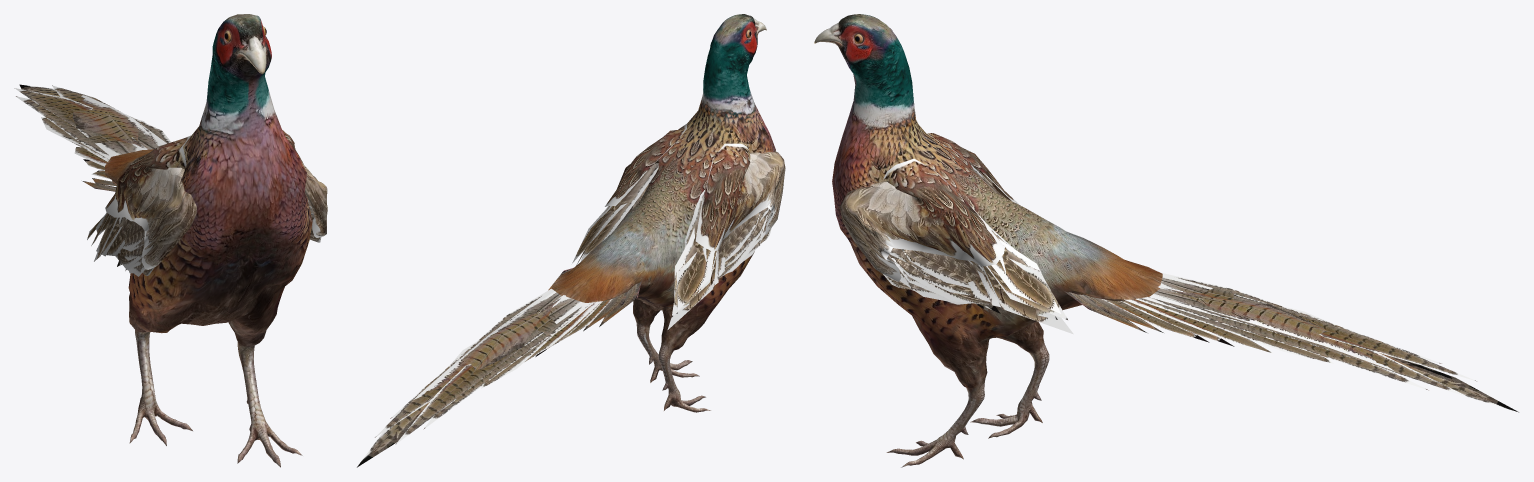
File: a_pheasant.glb
The picture shows the model from 3 angles, left to right: view 1: azimuth 30°, elevation 25°; view 2: azimuth 150°, elevation 25°; view 3: azimuth 270°, elevation 25°; orthographic projection. The views are drawn at different scales.
Parts seen in each view (by area): view 1: Goose.003_applied_clean_M_Goose2_0_M_Pheasant_0; view 2: Goose.003_applied_clean_M_Goose2_0_M_Pheasant_0; view 3: Goose.003_applied_clean_M_Goose2_0_M_Pheasant_0.
Part boxes in pixels (x1,y1,x2,y2): Goose.003_applied_clean_M_Goose2_0_M_Pheasant_0: (14,14,327,467); Goose.003_applied_clean_M_Goose2_0_M_Pheasant_0: (357,14,785,467); Goose.003_applied_clean_M_Goose2_0_M_Pheasant_0: (814,14,1518,467).
Bounding box in the file's own units: 0.2466 × 0.4881 × 0.75.
Materials: 1 (1 with a texture image).
